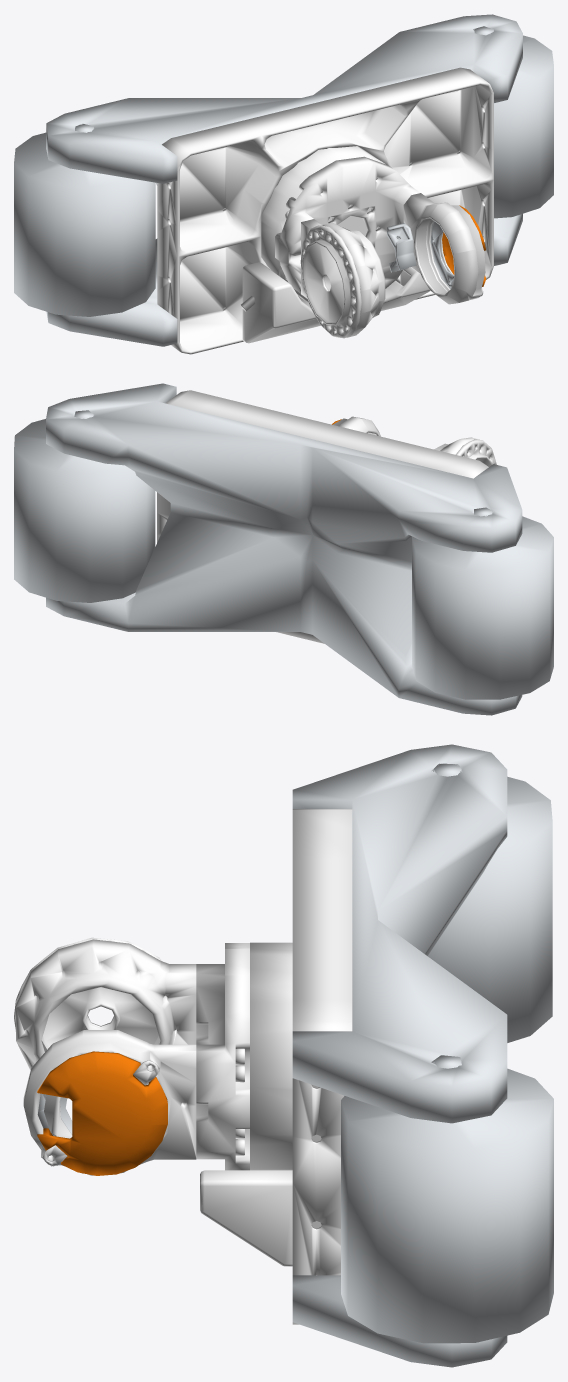
File: RLEG_LINK5.obj
The picture shows the model from 3 angles, top to bottom: view 1: azimuth 30°, elevation 25°; view 2: azimuth 150°, elevation 25°; view 3: azimuth 270°, elevation 25°; orthographic projection. The views are drawn at different scales.
Bounding box in the file's own units: 0.3783 × 0.14 × 0.2266.
